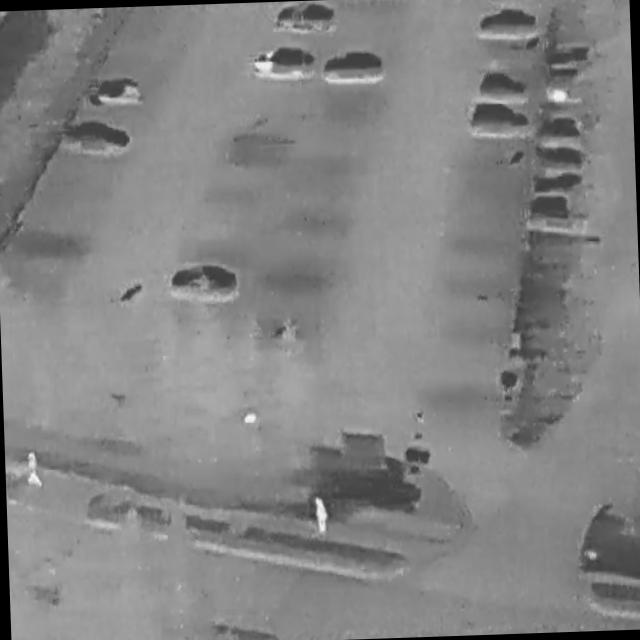person: (314, 495, 331, 538), (26, 449, 42, 489)
